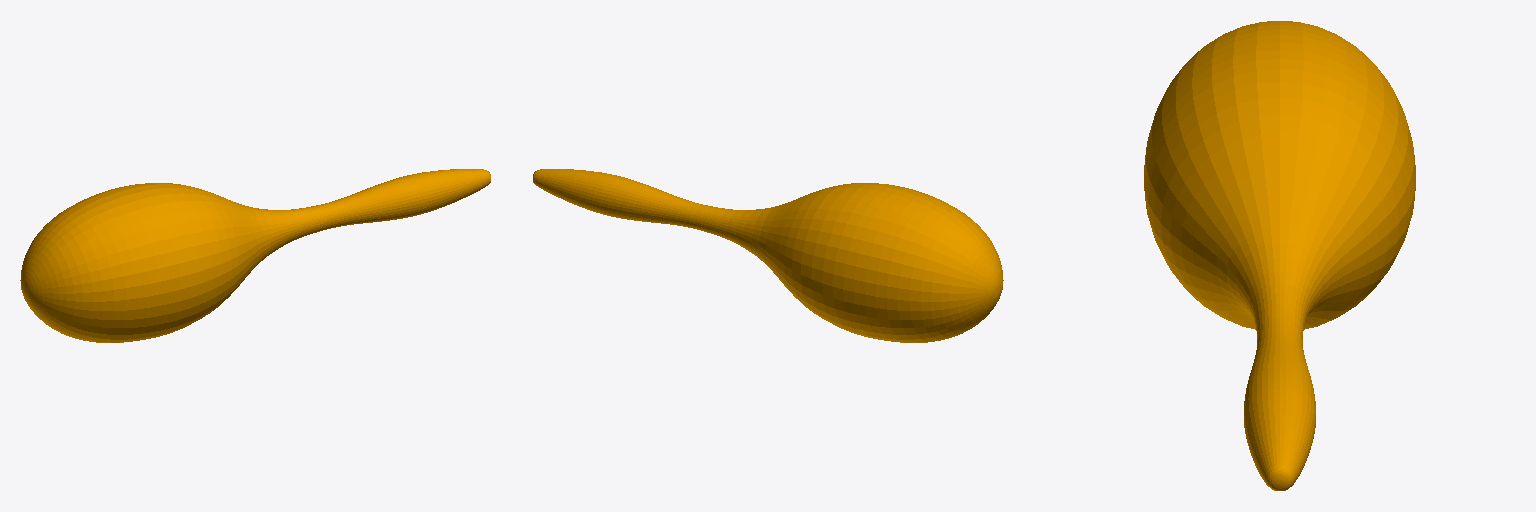
The robot description file, URDF, robot "mesh_object":
<?xml version="1.0" ?>
<robot name="mesh_object">
  <link name="base">
    <visual>
      <geometry>
        <mesh filename="drumstick_3.obj" scale="1 1 1"/>
      </geometry>
    </visual>
    <collision>
      <geometry>
        <mesh filename="drumstick_3.obj" scale="1 1 1"/>
      </geometry>
    </collision>
    <inertial>
      <origin xyz="-0.005577 0.000000 0.061968" rpy="0 0 0"/>
      <mass value="0.5"/>
      <inertia ixx="0.01" iyy="0.01" izz="0.01" ixy="0" ixz="0" iyz="0"/>
    </inertial>
  </link>
</robot>

--- What the picture shows (computed from the rendered views, not written in the file) ---
Views: 3 orthographic renders of the robot side by side, from view 1: azimuth 30°, elevation 25°; view 2: azimuth 150°, elevation 25°; view 3: azimuth 270°, elevation 25°.
Robot: mesh_object — 1 links, 0 joints (none); root link base; default pose: every joint at zero.
Visible links, largest first — view 1: base; view 2: base; view 3: base.
Boxes of the visible links, x1,y1,x2,y2 form: base: [20, 169, 490, 342]; base: [533, 169, 1003, 342]; base: [1144, 21, 1415, 490].
Bounding box of the posed robot: 0.43 × 0.1239 × 0.1239 m (x, y, z).
1 mesh visuals loaded from 1 distinct referenced files (1 OBJ).
